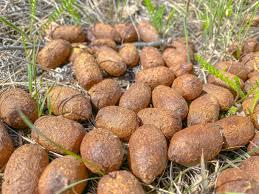Elk: (33, 51, 244, 166)
